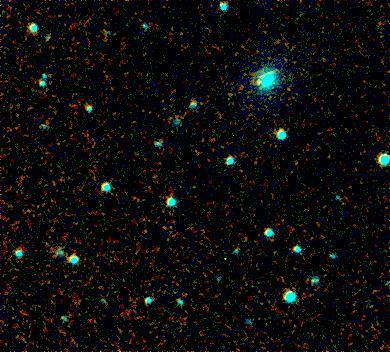star: (273, 76, 303, 106)
